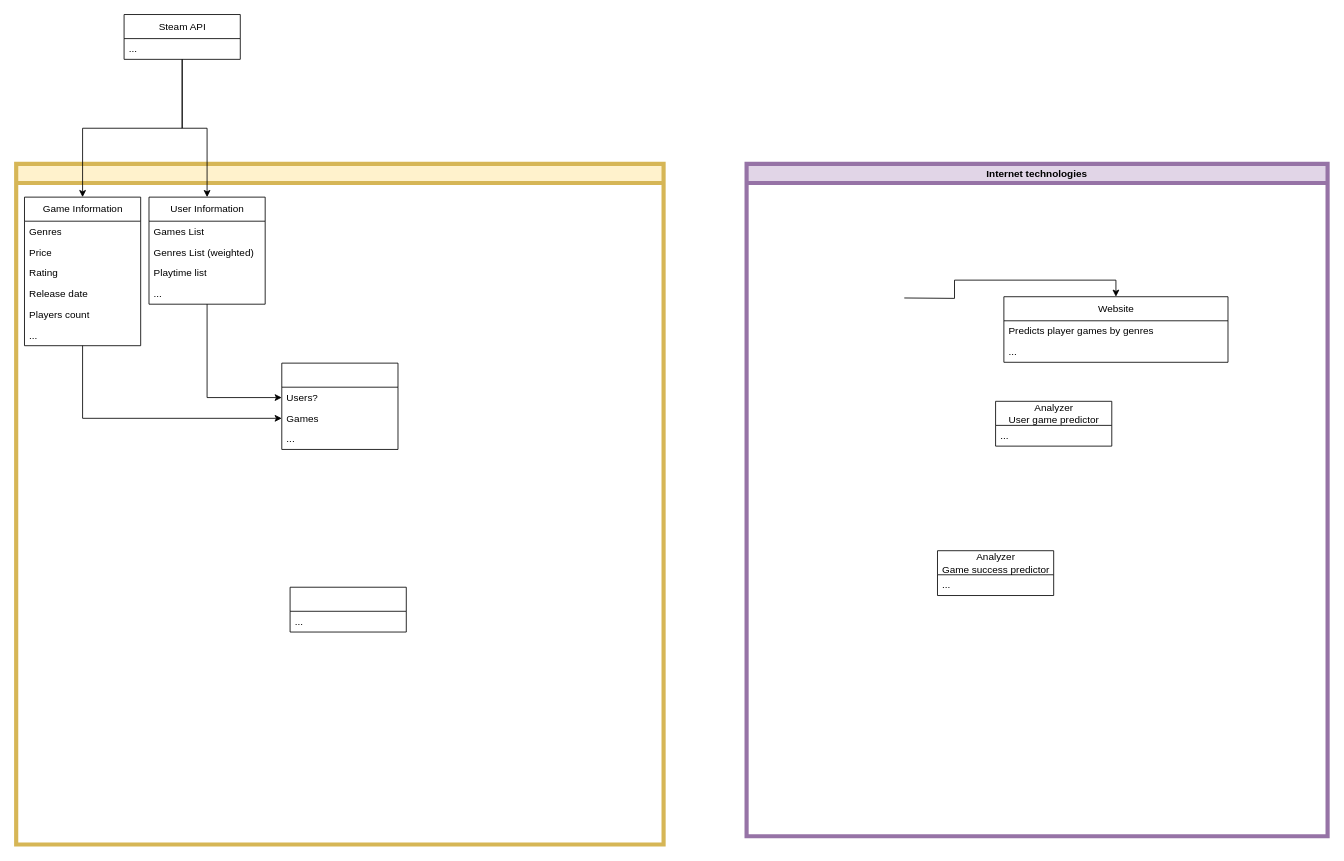
This 1344x861 diagram has some shape labels left out. The shapes that lost their labels are listed below. From the top down, each one's box as (x1, y1, x2, y2) in pixels, then its label:
(281, 362, 398, 449): Data
(14, 161, 665, 846): BigData
(289, 586, 406, 632): Analyzer Popularity analyzer
